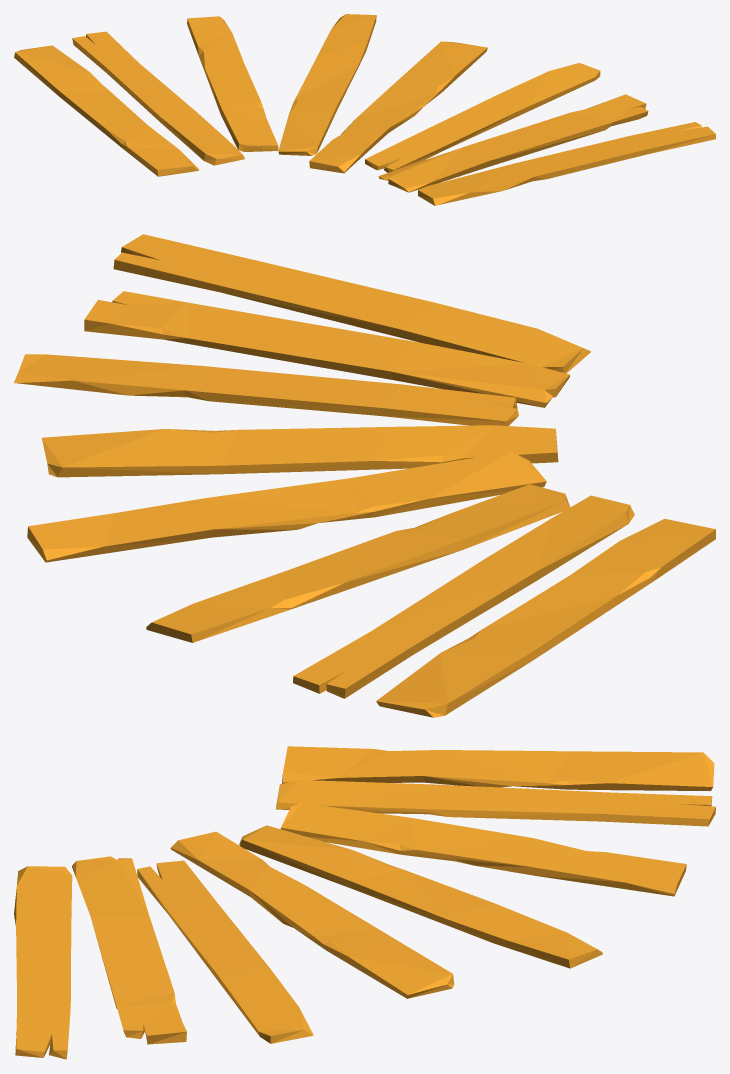
Rendered from SM_Path_Woodplanks_3m_Corner_Fantasy.fbx.
3 views of the same model, one above another, from view 1: azimuth 30°, elevation 25°; view 2: azimuth 150°, elevation 25°; view 3: azimuth 270°, elevation 25° (orthographic). The views are drawn at different scales.
Visible parts, largest first — view 1: path-woodplanks-3m-corner-fantasy; view 2: path-woodplanks-3m-corner-fantasy; view 3: path-woodplanks-3m-corner-fantasy.
Boxes of the visible parts, x1,y1,x2,y2 form: path-woodplanks-3m-corner-fantasy: (14, 14, 715, 205); path-woodplanks-3m-corner-fantasy: (14, 234, 715, 717); path-woodplanks-3m-corner-fantasy: (14, 746, 715, 1059).
Size of the model in its own units: 2.94 by 0.069 by 2.88.
